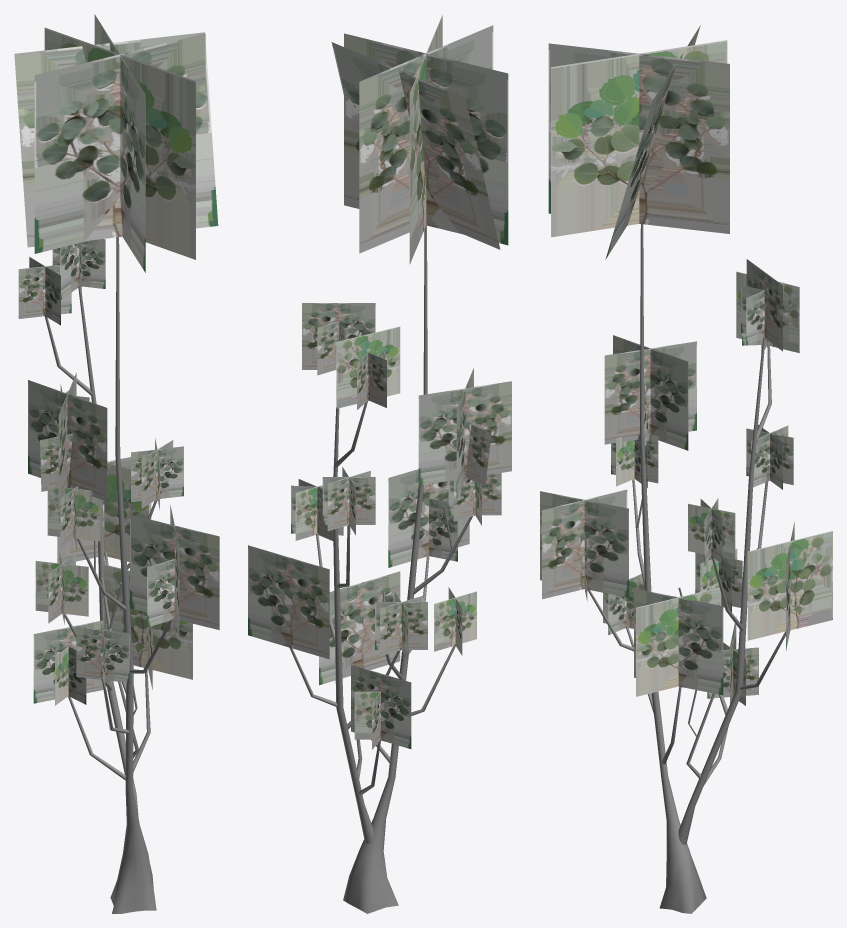
File: tree_1_1.FBX
3 views of the same model, side by side, from view 1: azimuth 30°, elevation 25°; view 2: azimuth 150°, elevation 25°; view 3: azimuth 270°, elevation 25° (orthographic). The views are drawn at different scales.
Parts seen in each view (by area): view 1: Plane007, Cylinder006; view 2: Plane007, Cylinder006; view 3: Plane007, Cylinder006.
Boxes of the visible parts, left/top/right/bottom form: Plane007: left=14, top=14, right=219, bottom=705; Cylinder006: left=43, top=237, right=172, bottom=913; Plane007: left=248, top=15, right=511, bottom=749; Cylinder006: left=287, top=224, right=472, bottom=913; Plane007: left=540, top=25, right=832, bottom=705; Cylinder006: left=587, top=224, right=785, bottom=913.
Bounding box in the file's own units: 224 × 967 × 308.
